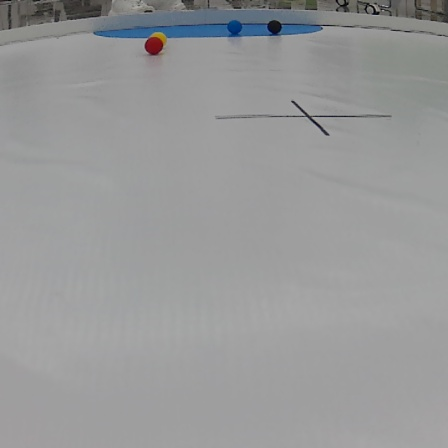black: (269, 21, 282, 33)
blue: (227, 20, 241, 32)
blue_base: (98, 20, 326, 37)
red: (145, 38, 162, 55)
